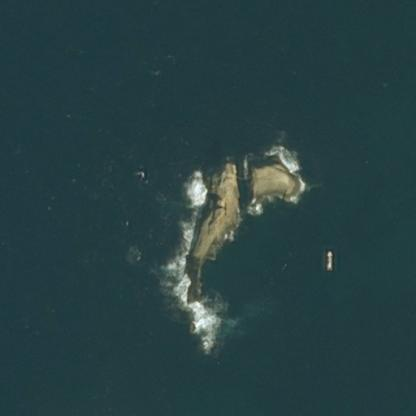ship: (316, 241, 340, 277)
